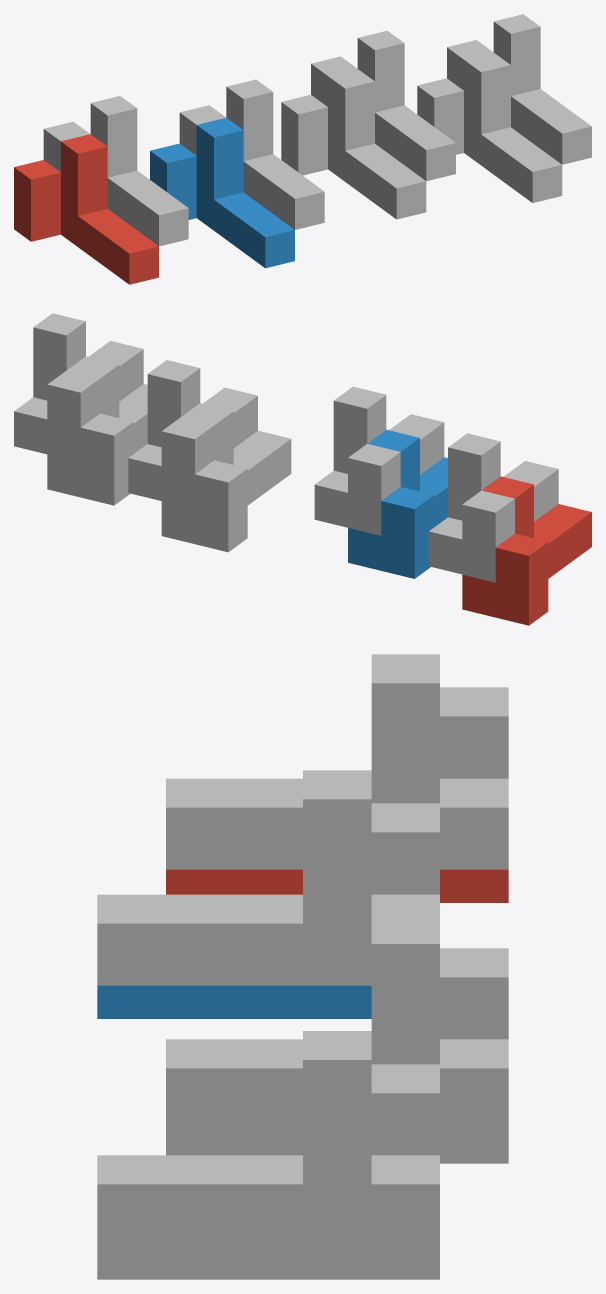
Rendered from tiling.obj.
3 renders of one model, top to bottom at view 1: azimuth 30°, elevation 25°; view 2: azimuth 150°, elevation 25°; view 3: azimuth 270°, elevation 25°, orthographic. The views are drawn at different scales.
Visible parts, largest first — view 1: copy_1_domain_1, copy_1_domain_5, copy_1_domain_2, copy_1_domain_6, copy_1_domain_3, copy_1_domain_4, copy_1_domain_8, copy_1_domain_7; view 2: copy_1_domain_4, copy_1_domain_7, copy_1_domain_3, copy_1_domain_8, copy_1_domain_5, copy_1_domain_1, copy_1_domain_6, copy_1_domain_2; view 3: copy_1_domain_8, copy_1_domain_4, copy_1_domain_3, copy_1_domain_7, copy_1_domain_6, copy_1_domain_2, copy_1_domain_1, copy_1_domain_5.
Part boxes in pixels (<box>): copy_1_domain_1: <box>14,134,158,284</box>; copy_1_domain_5: <box>281,69,426,219</box>; copy_1_domain_2: <box>150,117,294,268</box>; copy_1_domain_6: <box>417,52,562,202</box>; copy_1_domain_3: <box>43,96,188,246</box>; copy_1_domain_4: <box>179,79,324,229</box>; copy_1_domain_8: <box>447,14,591,164</box>; copy_1_domain_7: <box>311,30,455,181</box>; copy_1_domain_4: <box>314,386,444,535</box>; copy_1_domain_7: <box>128,360,257,509</box>; copy_1_domain_3: <box>428,433,558,582</box>; copy_1_domain_8: <box>14,313,143,462</box>; copy_1_domain_5: <box>161,403,291,552</box>; copy_1_domain_1: <box>462,476,591,625</box>; copy_1_domain_6: <box>47,356,147,505</box>; copy_1_domain_2: <box>348,429,447,578</box>; copy_1_domain_8: <box>97,1031,439,1246</box>; copy_1_domain_4: <box>97,770,439,985</box>; copy_1_domain_3: <box>166,654,508,869</box>; copy_1_domain_7: <box>166,915,508,1130</box>; copy_1_domain_6: <box>97,1246,439,1279</box>; copy_1_domain_2: <box>97,985,371,1018</box>; copy_1_domain_1: <box>166,869,508,902</box>; copy_1_domain_5: <box>166,1130,508,1163</box>.
Size of the model in its own units: 16 by 4 by 6.
